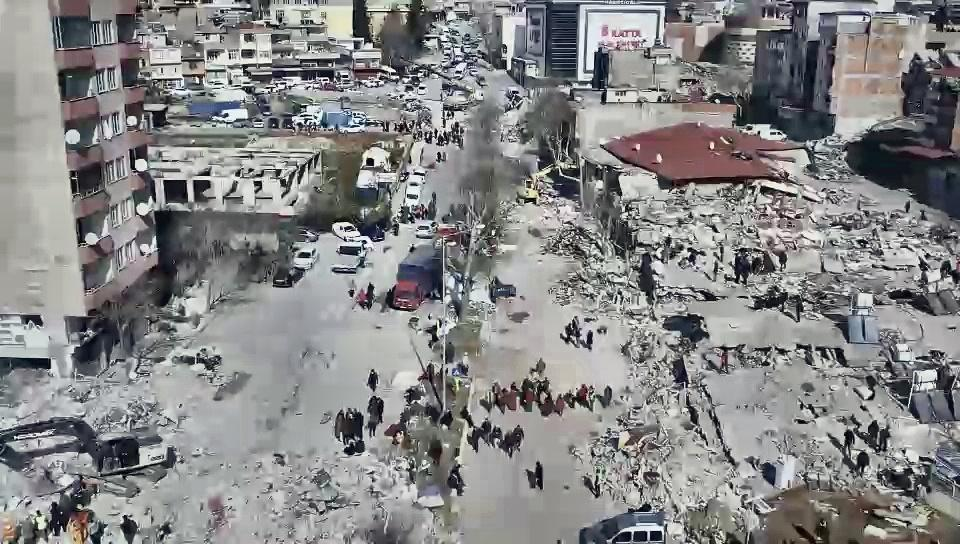kapali: (0, 363, 408, 543)
